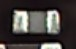COMP: (7, 6, 64, 38)
GAP: (12, 22, 62, 49)
